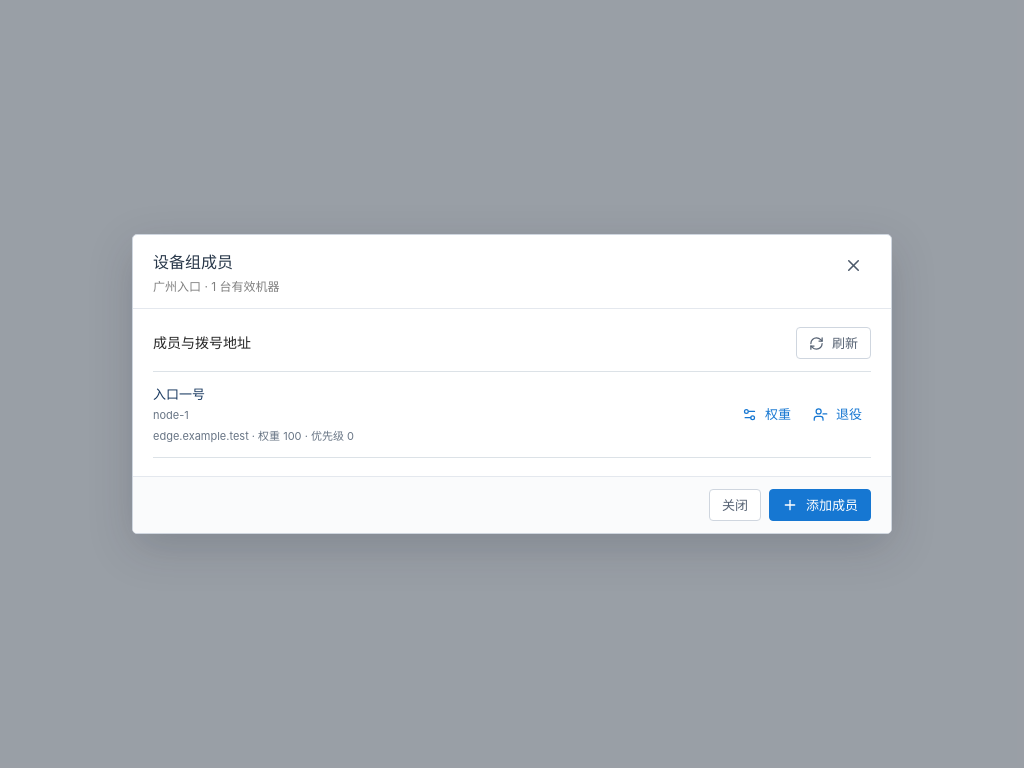
GroupMembersDialog › keeps confirmation open and shows an error when retirement fails
Click the button with aria-label "退役 入口一号" at x=838, y=414, box [804, 400, 871, 430]
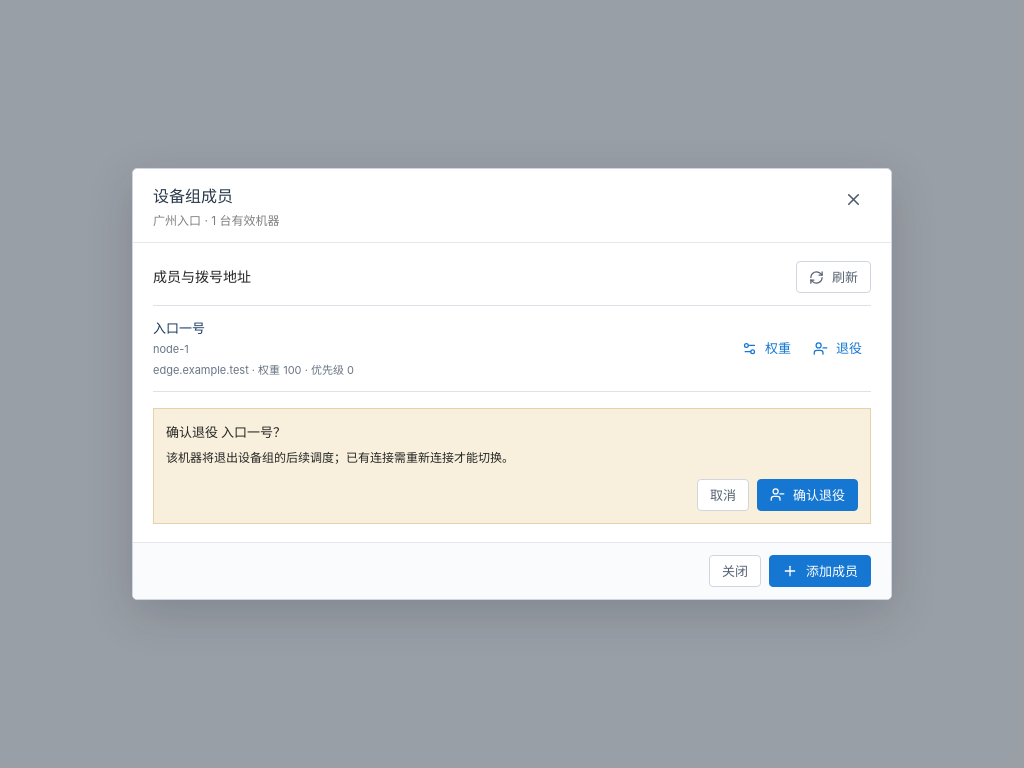
Click the button "确认退役" at x=808, y=495, box [757, 479, 858, 511]
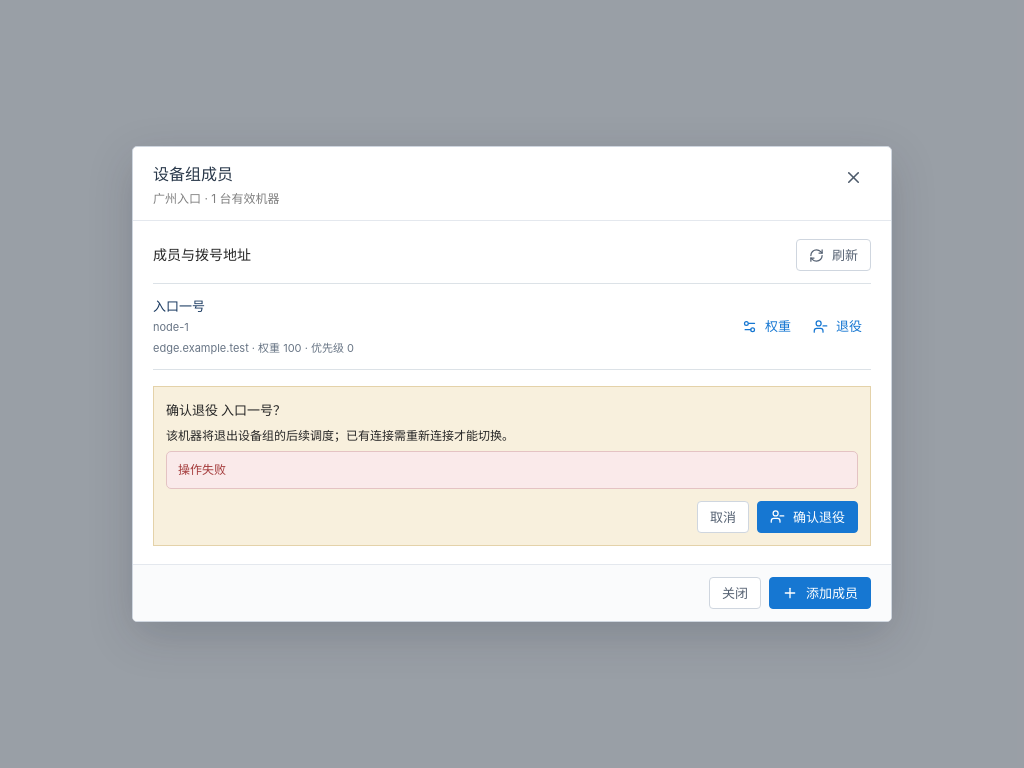
Expected: the text "确认退役" is shown, [166, 402, 286, 418]
Expected: the message "操作失败" is shown, [166, 451, 858, 489]
